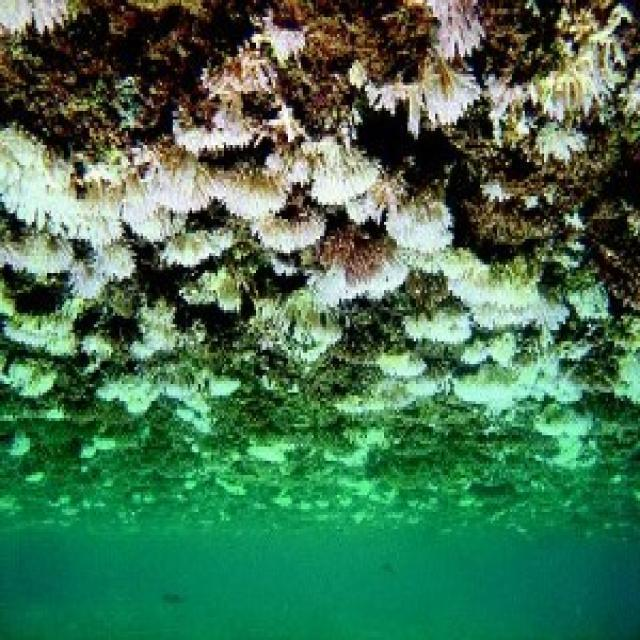Bleached: (141, 148, 379, 223), (1, 141, 127, 247), (443, 254, 551, 335), (552, 24, 632, 119), (456, 348, 580, 404), (421, 1, 472, 117), (486, 74, 553, 145), (350, 358, 437, 411), (92, 380, 227, 413), (1, 302, 78, 356), (274, 300, 341, 351), (170, 105, 251, 146), (387, 194, 450, 246), (543, 402, 591, 470), (1, 1, 78, 41), (1, 361, 61, 404), (202, 62, 272, 98), (83, 247, 126, 303), (332, 428, 389, 470), (545, 118, 587, 171), (142, 305, 185, 354), (260, 222, 326, 252), (255, 16, 298, 57), (618, 348, 640, 405), (336, 472, 380, 499), (252, 443, 298, 468), (82, 435, 116, 467), (483, 180, 506, 206), (12, 434, 33, 461), (567, 213, 587, 230), (524, 197, 538, 214)
Healthy: (1, 51, 159, 122), (462, 156, 540, 254), (300, 8, 412, 76), (598, 170, 640, 319), (238, 382, 341, 441), (388, 435, 491, 479), (487, 1, 540, 72), (38, 423, 83, 491), (330, 228, 378, 280), (148, 425, 178, 491), (37, 427, 78, 456), (476, 484, 514, 511)
